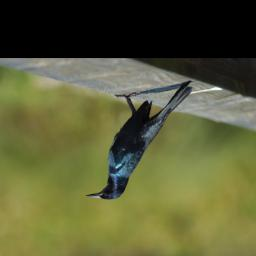Crow: (86, 81, 195, 201)
